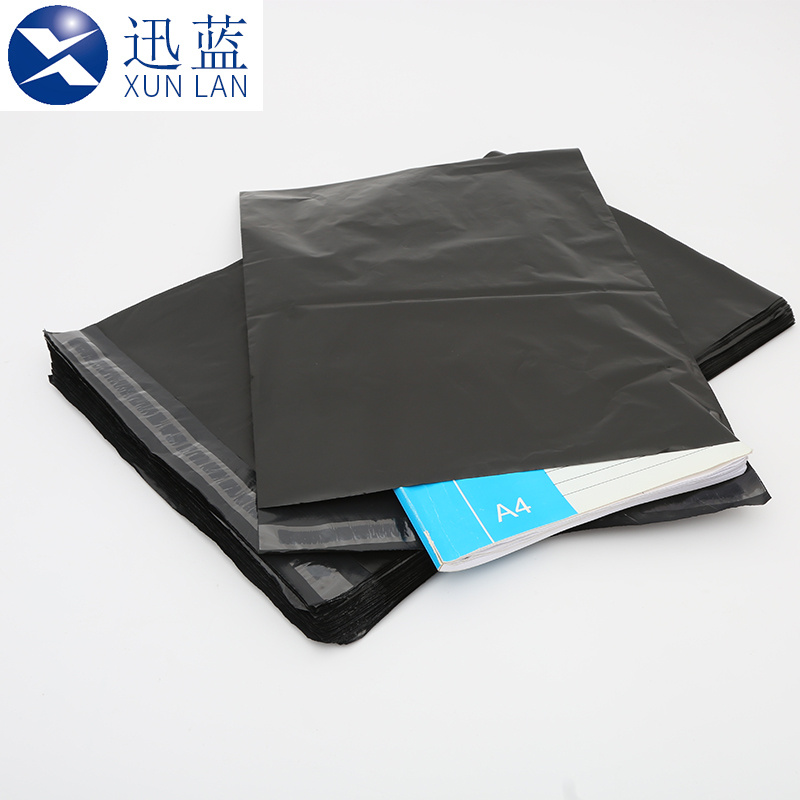塑料袋: (46, 149, 793, 643)
